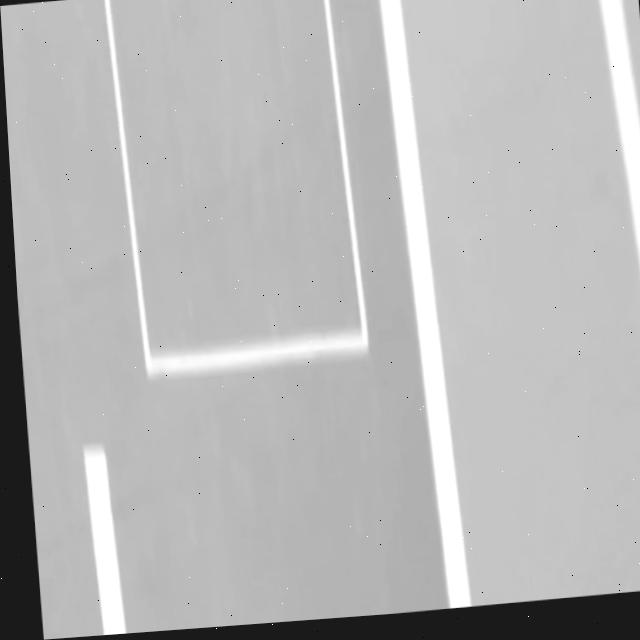center: (84, 445, 126, 635)
left: (380, 0, 471, 608)
